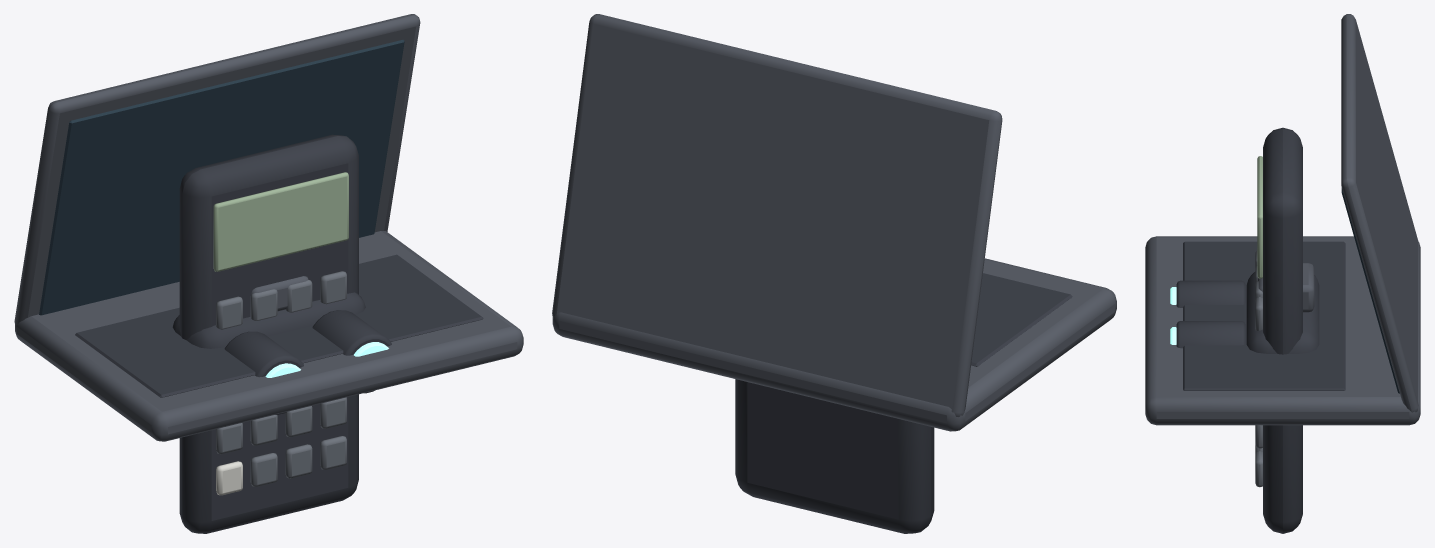
The model's file is items_upload_b3.glb.
The picture shows the model from 3 angles, left to right: view 1: azimuth 30°, elevation 25°; view 2: azimuth 150°, elevation 25°; view 3: azimuth 270°, elevation 25°; orthographic projection. The views are drawn at different scales.
Visible parts, largest first — view 1: laptop_screen__p2e4250, calc_body__p3b3f48, laptop_body__p565b65, laptop_lid__p565b65, laptop_keys__p3b3f48, calc_screen__p9fb59a, calc_keys__p6a7079, nvg_tube__p3b3f48, nvg_body__p3b3f48, calc_keys__pd9d9d3, nvg_lens__n5fbf86, nvg_mount__p565b65; view 2: laptop_lid__p565b65, calc_body__p3b3f48, laptop_body__p565b65, laptop_keys__p3b3f48; view 3: laptop_body__p565b65, laptop_lid__p565b65, laptop_keys__p3b3f48, calc_body__p3b3f48, nvg_tube__p3b3f48, nvg_body__p3b3f48, calc_keys__p6a7079, calc_screen__p9fb59a, nvg_mount__p565b65, laptop_screen__p2e4250.
Part boxes in pixels (x1=…): laptop_screen__p2e4250: x1=39, y1=39, x2=404, y2=315; calc_body__p3b3f48: x1=179, y1=134, x2=358, y2=533; laptop_body__p565b65: x1=15, y1=231, x2=523, y2=441; laptop_lid__p565b65: x1=14, y1=14, x2=420, y2=325; laptop_keys__p3b3f48: x1=75, y1=254, x2=483, y2=397; calc_screen__p9fb59a: x1=213, y1=172, x2=348, y2=271; calc_keys__p6a7079: x1=216, y1=271, x2=346, y2=486; nvg_tube__p3b3f48: x1=224, y1=310, x2=391, y2=414; nvg_body__p3b3f48: x1=172, y1=292, x2=365, y2=348; calc_keys__pd9d9d3: x1=216, y1=461, x2=242, y2=495; nvg_lens__n5fbf86: x1=265, y1=342, x2=388, y2=377; nvg_mount__p565b65: x1=251, y1=276, x2=308, y2=311; laptop_lid__p565b65: x1=552, y1=14, x2=1002, y2=416; calc_body__p3b3f48: x1=735, y1=379, x2=934, y2=533; laptop_body__p565b65: x1=552, y1=258, x2=1116, y2=431; laptop_keys__p3b3f48: x1=971, y1=273, x2=1072, y2=366; laptop_body__p565b65: x1=1145, y1=236, x2=1420, y2=425; laptop_lid__p565b65: x1=1341, y1=14, x2=1418, y2=412; laptop_keys__p3b3f48: x1=1183, y1=241, x2=1345, y2=390; calc_body__p3b3f48: x1=1263, y1=127, x2=1302, y2=533; nvg_tube__p3b3f48: x1=1176, y1=280, x2=1245, y2=348; nvg_body__p3b3f48: x1=1246, y1=272, x2=1319, y2=353; calc_keys__p6a7079: x1=1255, y1=250, x2=1262, y2=487; calc_screen__p9fb59a: x1=1257, y1=156, x2=1262, y2=278; nvg_mount__p565b65: x1=1258, y1=263, x2=1314, y2=312; laptop_screen__p2e4250: x1=1341, y1=187, x2=1399, y2=393.
Size of the model in its own units: 3.2 by 3.57 by 2.2.
